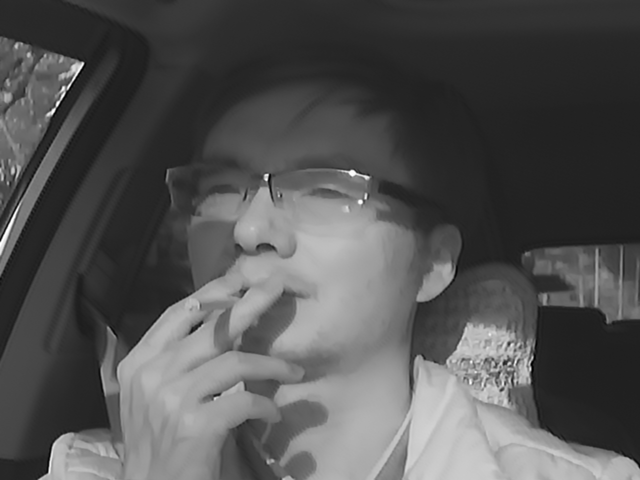hand: (115, 272, 312, 458)
